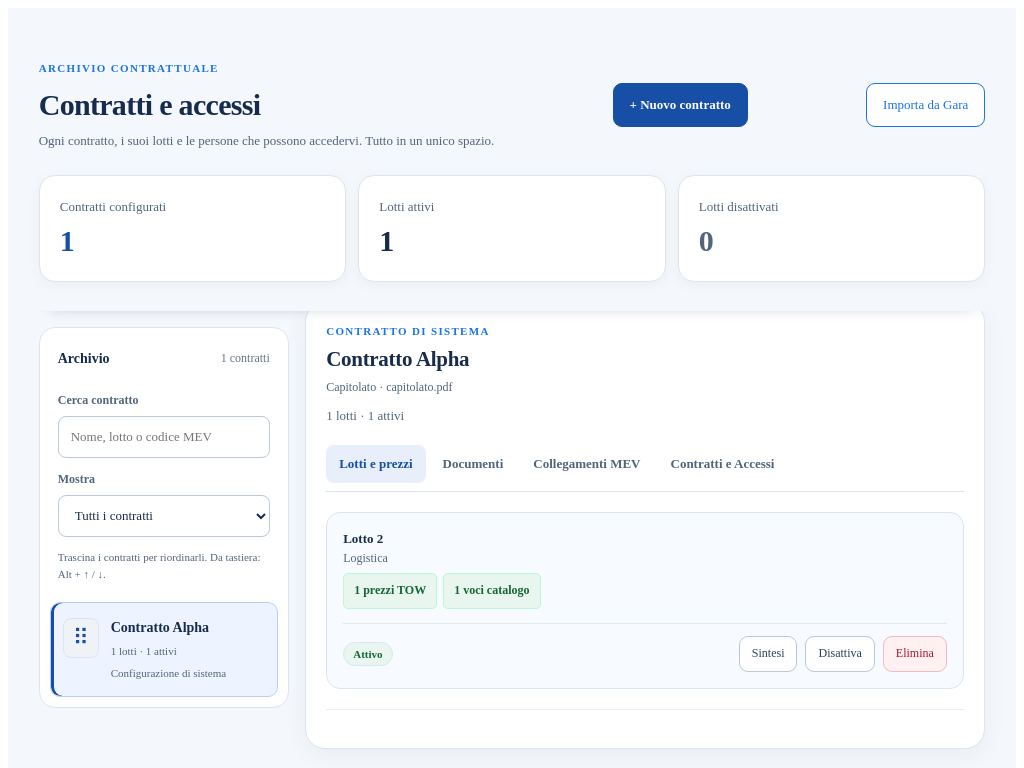
Test: documents show saved names and imported data independently of new file selection
Click the button "Documenti".
click(473, 464)  # box [430,445,516,483]
(page scrolled)
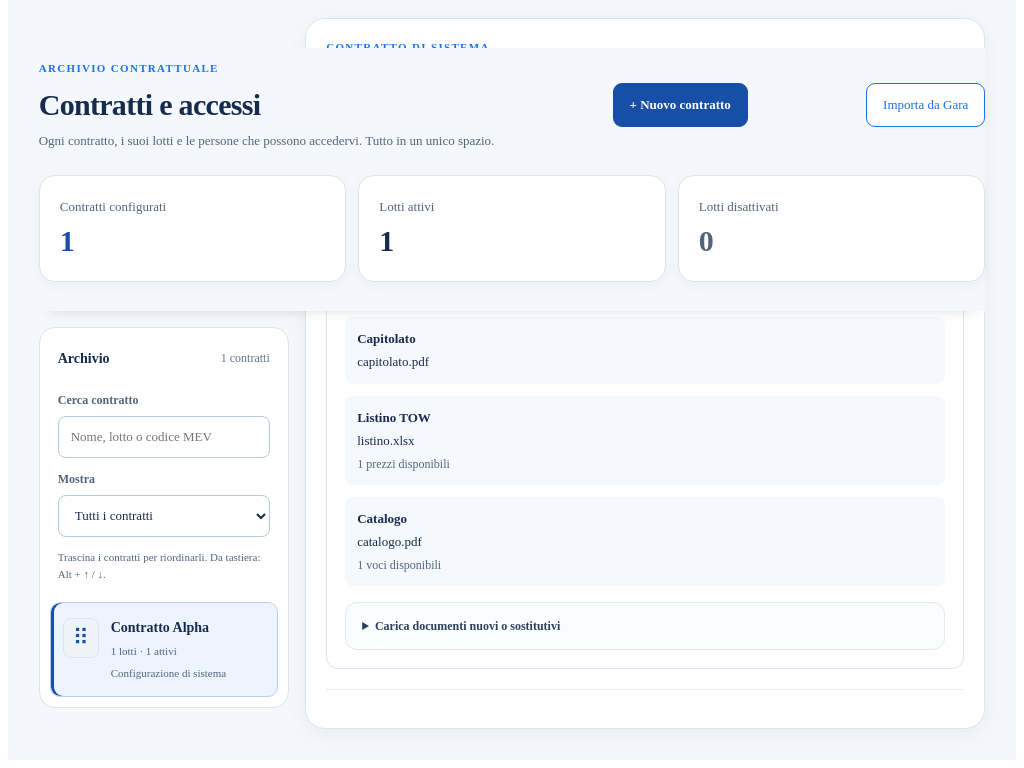
Result: the text "capitolato.pdf" is shown at [357,354,429,369]
Result: the text "listino.xlsx" is shown at [357,433,415,448]
Result: the text "catalogo.pdf" is shown at [357,534,422,549]
